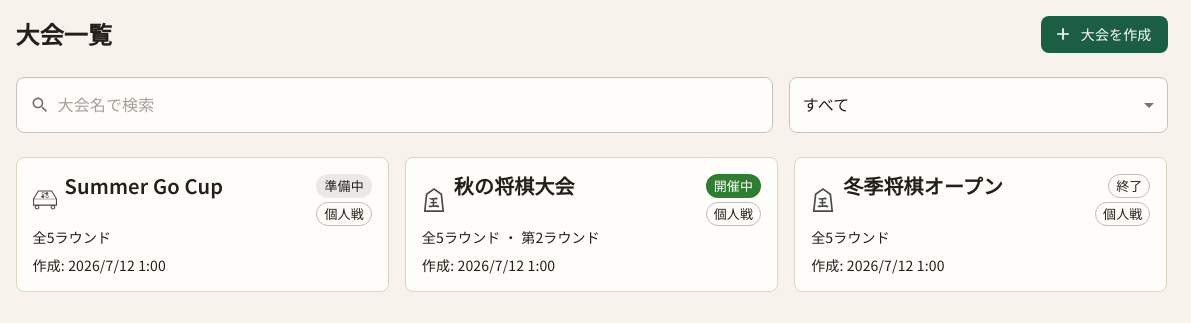
Test: TournamentListPage › TRN-AC-021: 状態フィルタで「すべて」が選択されているとき、セレクトボックスが空白にならず「すべて」と表示される
Expected: the heading "Summer Go Cup" is shown, [64,174,223,220]
Click the dropdown named "状態で絞り込み": (826,104) [803,92,850,116]
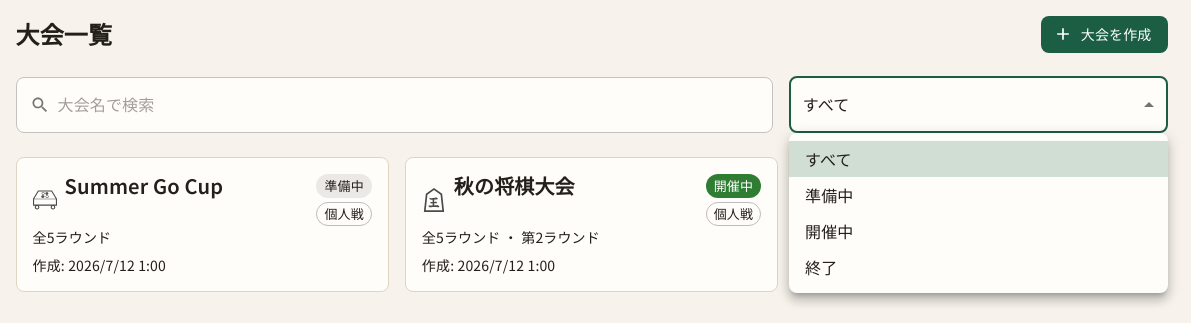
Click the option "開催中": (829,231) [805,219,854,243]
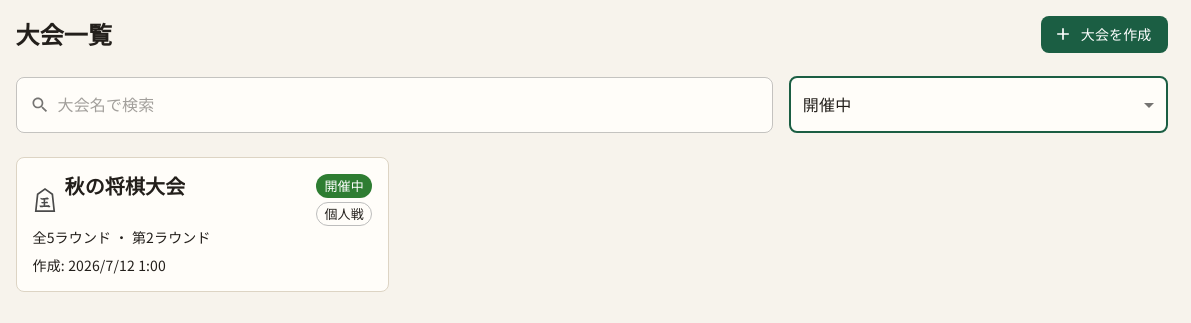
Expected: the dropdown named "状態で絞り込み" reads "開催中"
Click the dropdown named "状態で絞り込み": (827,104) [803,92,851,116]
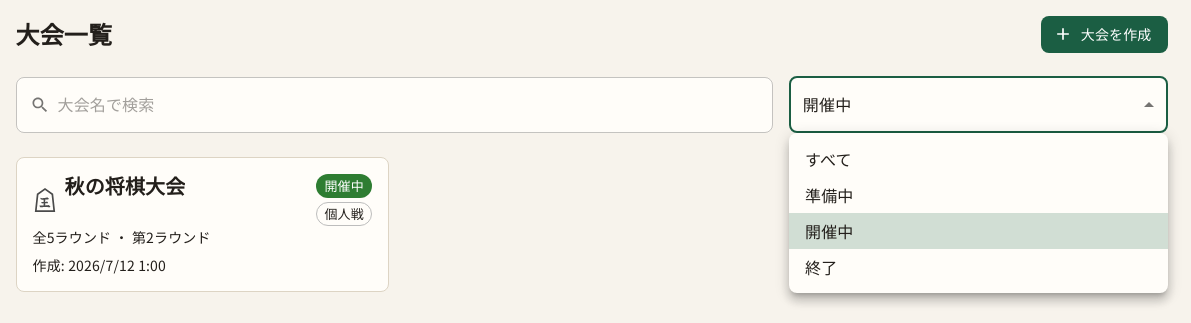
Click the option "すべて": (828,159) [805,147,852,171]
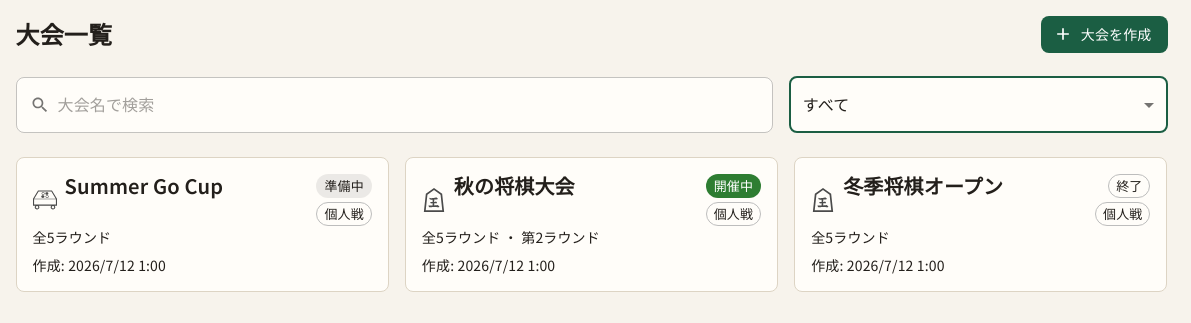
Expected: the dropdown named "状態で絞り込み" reads "すべて", [803,92,850,116]
